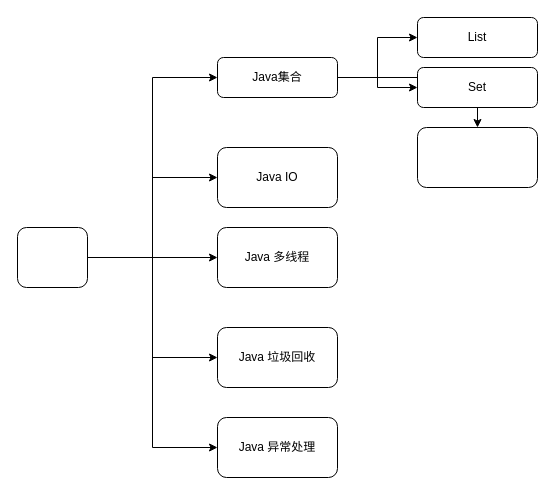
Some shapes in this 555 by 495 pixel diagram are drawn without their labels. The box of each missing label's shape, as (x1, y1, x2, y2) in pixels:
Java: (16, 226, 88, 288)
Map: (416, 126, 538, 188)
